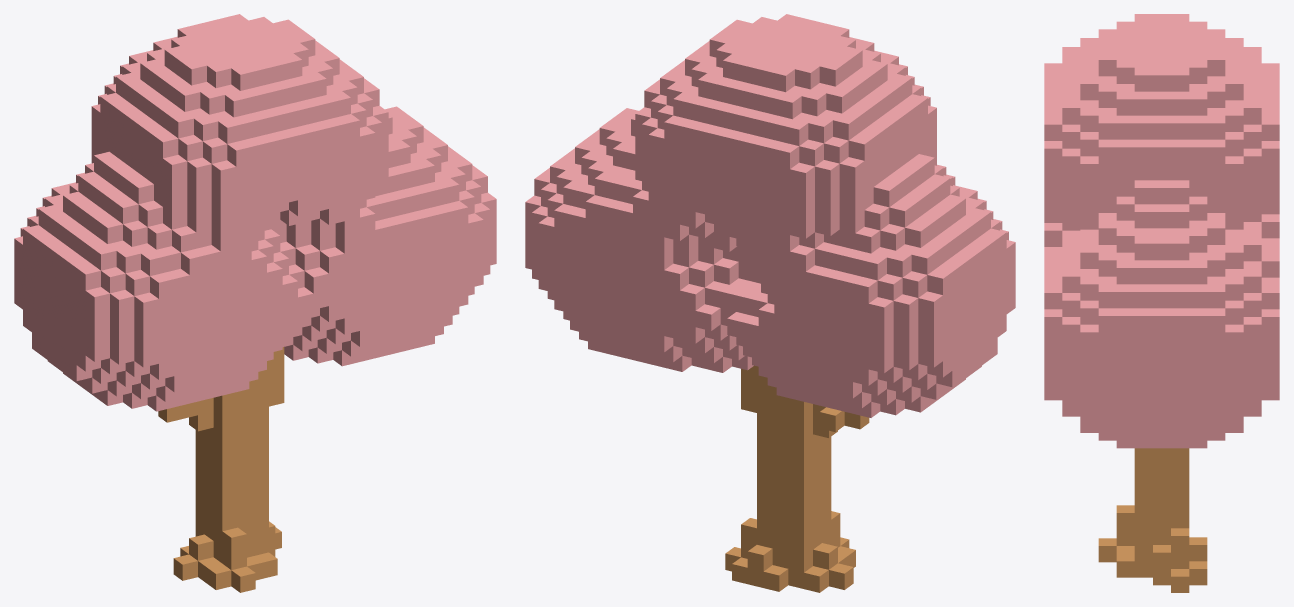
File: TreeBlossom_2.obj
The picture shows the model from 3 angles, left to right: view 1: azimuth 30°, elevation 25°; view 2: azimuth 150°, elevation 25°; view 3: azimuth 270°, elevation 25°; orthographic projection.
Size of the model in its own units: 2.6 by 3.2 by 1.3.
Materials: 1 (1 with a texture image).
